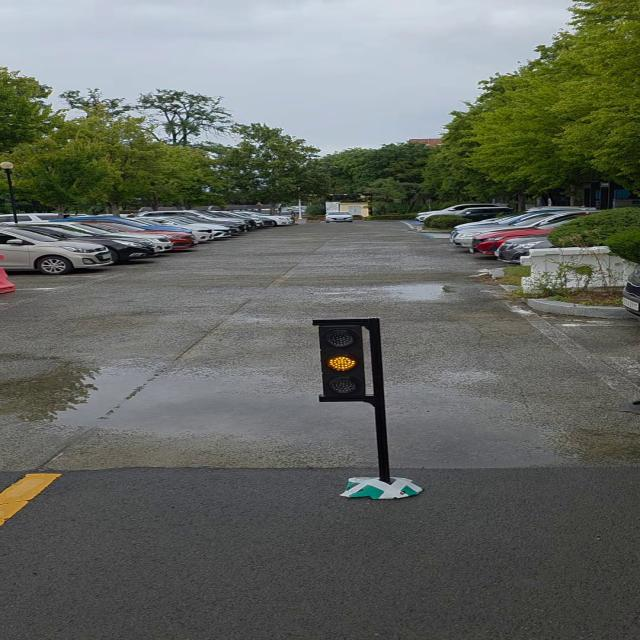yellow: (319, 321, 379, 397)
